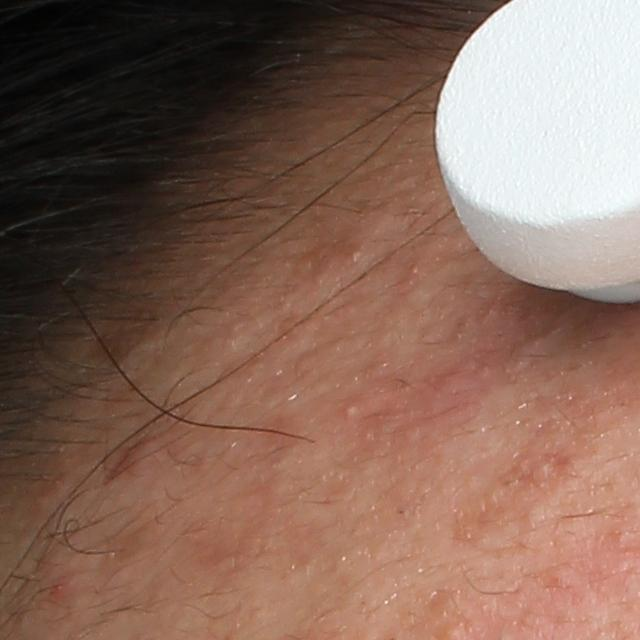comedo: (339, 396, 366, 423)
papule: (50, 577, 76, 604)
